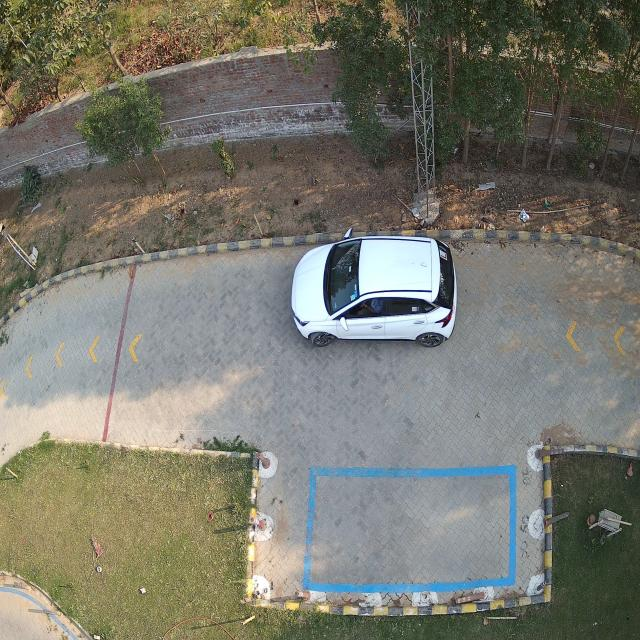car: (291, 235, 458, 348)
